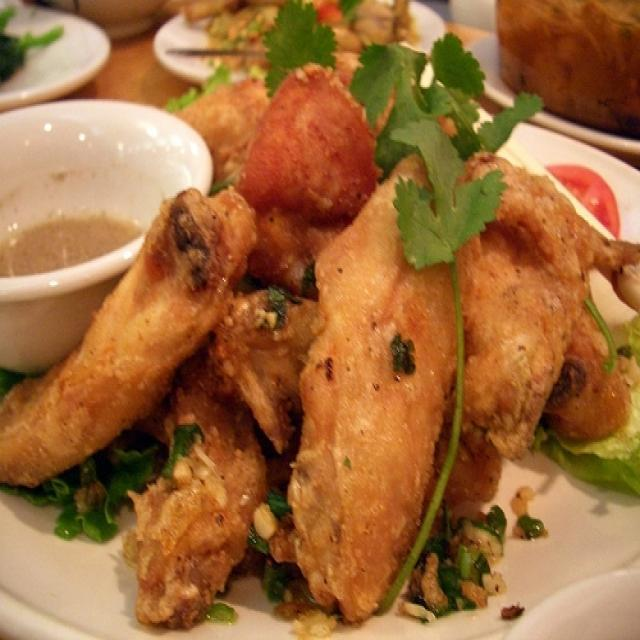Deep fried chicken wing: (86, 154, 628, 584)
